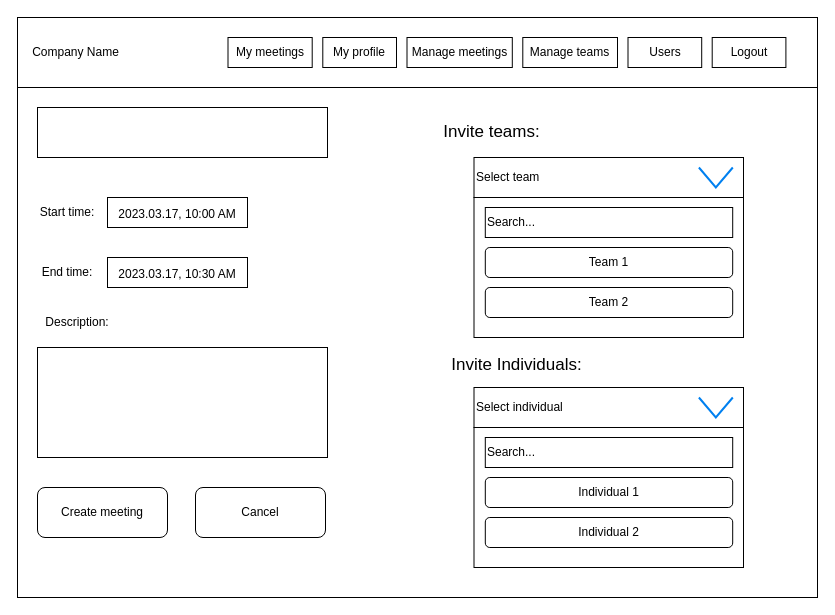
This 835x615 diagram has some shape labels left out. Here are the shapes that lost their labels. From the top down, the centre of each, then its label:
At [182,132]: "Title of meeting".
At [182,402]: "Description of meeting".
